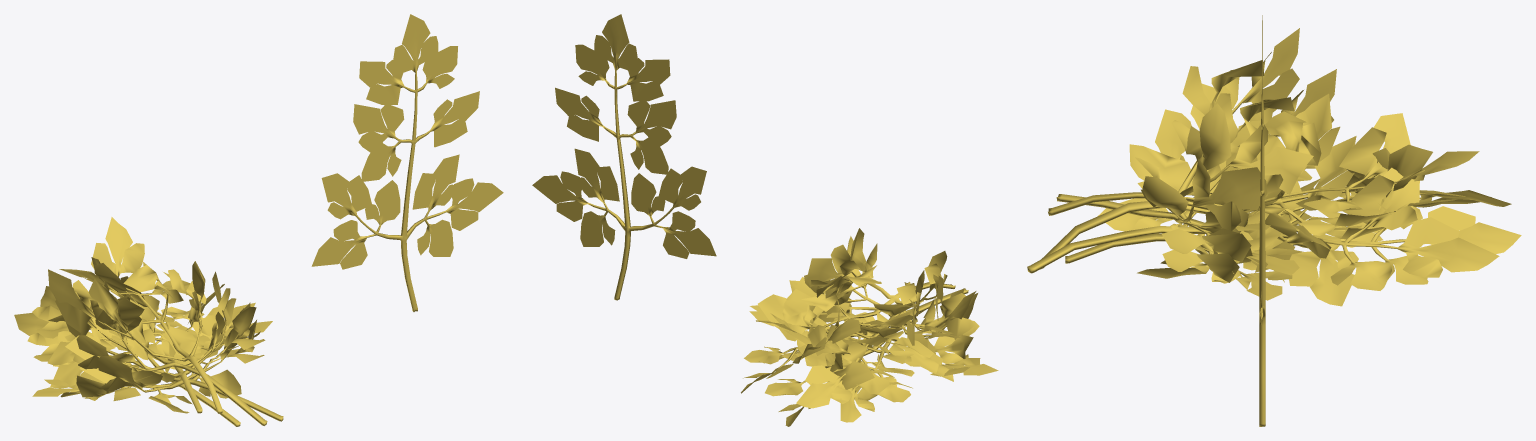
Rendered from Parsley.obj.
The picture shows the model from 3 angles, left to right: view 1: azimuth 30°, elevation 25°; view 2: azimuth 150°, elevation 25°; view 3: azimuth 270°, elevation 25°; orthographic projection. The views are drawn at different scales.
Parts seen in each view (by area): view 1: Parsley_02, Parsley_06, Parsley_05, Parsley_03, Parsley_04, Parsley_01; view 2: Parsley_02, Parsley_05, Parsley_06, Parsley_04, Parsley_01, Parsley_03; view 3: Parsley_04, Parsley_06, Parsley_05, Parsley_01, Parsley_03, Parsley_02.
Boxes of the visible parts, x1,y1,x2,y2 form: Parsley_02: (311,14,503,311); Parsley_06: (48,217,222,413); Parsley_05: (32,257,267,425); Parsley_03: (14,294,283,421); Parsley_04: (55,271,256,413); Parsley_01: (32,308,247,426); Parsley_02: (532,14,716,300); Parsley_05: (750,280,976,408); Parsley_06: (756,228,955,349); Parsley_04: (741,236,968,393); Parsley_01: (764,277,998,426); Parsley_03: (749,282,979,422); Parsley_04: (1056,69,1499,290); Parsley_06: (1048,28,1479,233); Parsley_05: (1040,83,1511,275); Parsley_01: (1065,192,1521,306); Parsley_03: (1027,109,1491,300); Parsley_02: (1259,15,1265,426).
Bounding box in the file's own units: 100 × 60.17 × 65.3.
